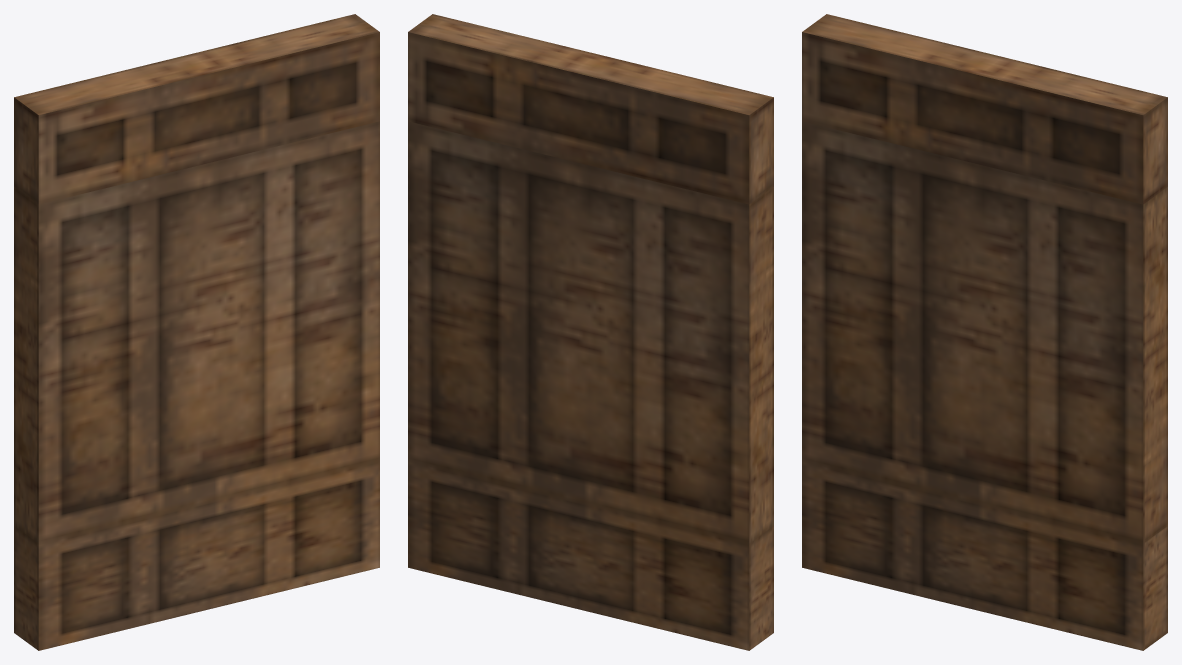
The model's file is wooden_wall_2x3.fbx.
The picture shows the model from 3 angles, left to right: view 1: azimuth 30°, elevation 25°; view 2: azimuth 150°, elevation 25°; view 3: azimuth 330°, elevation 25°; orthographic projection.
Parts seen in each view (by area): view 1: Wall_2x3; view 2: Wall_2x3; view 3: Wall_2x3.
Boxes of the visible parts, x1,y1,x2,y2 form: Wall_2x3: [14, 14, 379, 650]; Wall_2x3: [408, 14, 773, 650]; Wall_2x3: [802, 14, 1167, 650].
Size of the model in its own units: 200 by 300 by 25.
